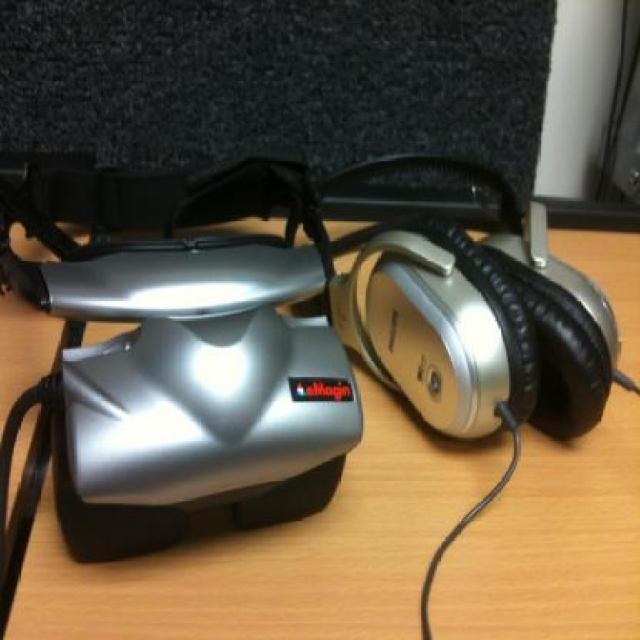earphone: (331, 156, 640, 460)
